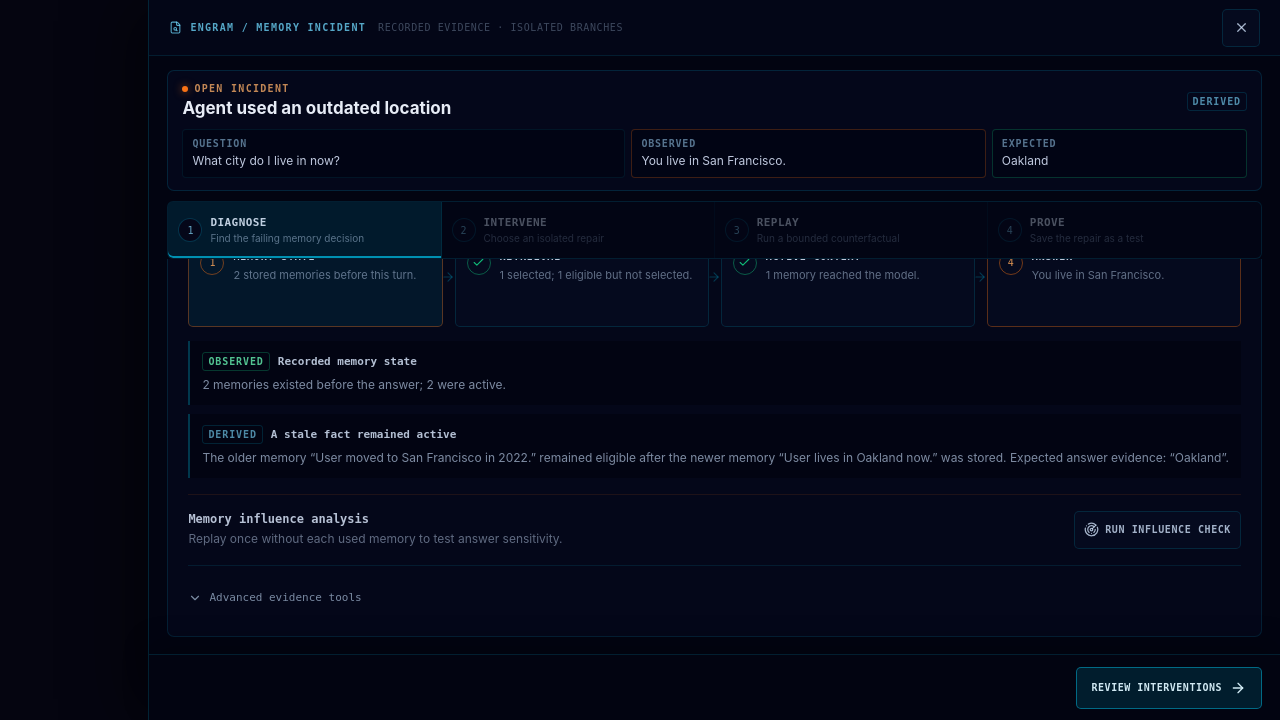
Test: IncidentWorkspace › labels counterfactual influence as simulated evidence
(page scrolled)
Click the button "Run influence check" at (1158, 530), box [1074,511,1241,549]
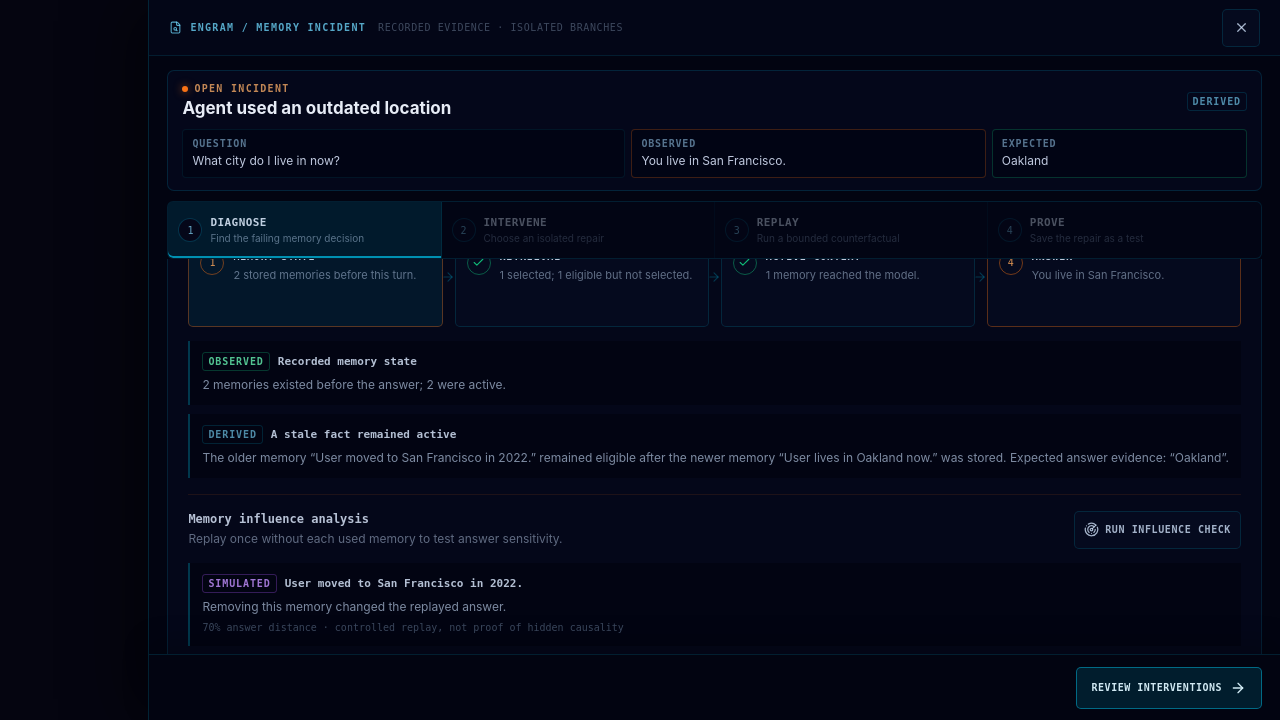
expect the text "Removing this memory changed the replayed answer." is shown: met, box [202,599,506,614]
expect the text "simulated" is shown: met, box [202,574,277,593]
expect the text "not proof of hidden causality" is shown: met, box [214,622,624,633]
